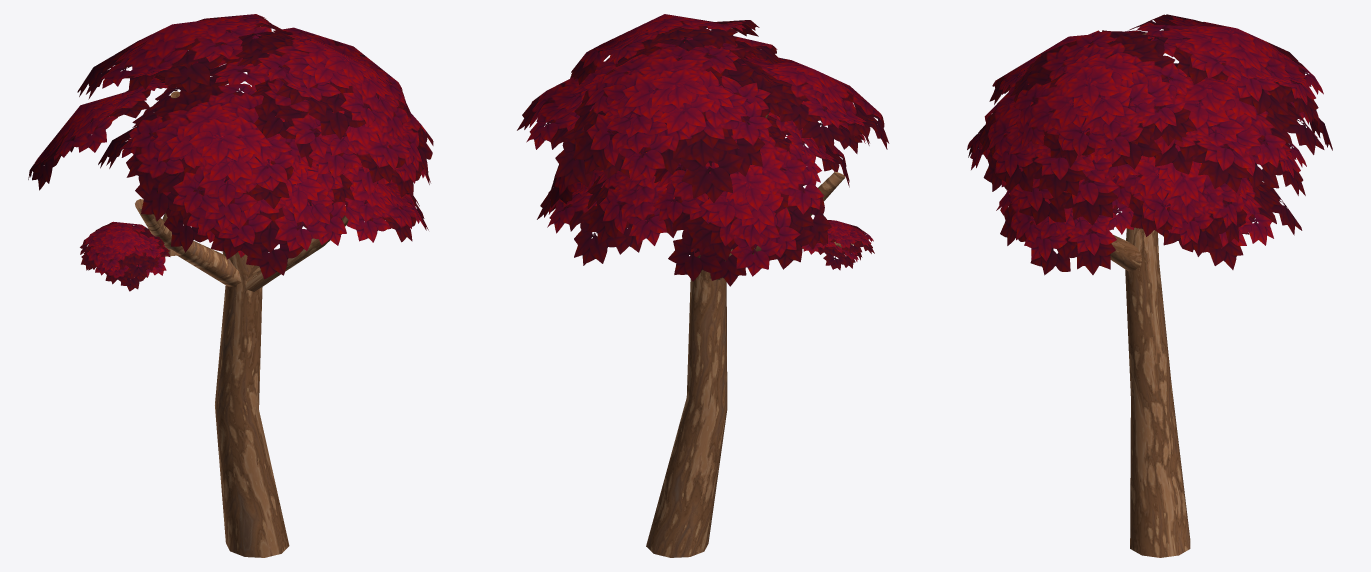
Rendered from TreeNew1.fbx.
3 views of the same model, side by side, from view 1: azimuth 30°, elevation 25°; view 2: azimuth 150°, elevation 25°; view 3: azimuth 270°, elevation 25° (orthographic).
Parts seen in each view (by area): view 1: Tree_1; view 2: Tree_1; view 3: Tree_1.
Part boxes in pixels (bbox=[...]): Tree_1: bbox=[28, 14, 433, 557]; Tree_1: bbox=[517, 14, 889, 557]; Tree_1: bbox=[967, 14, 1332, 557].
Size of the model in its own units: 414 by 554 by 413.
